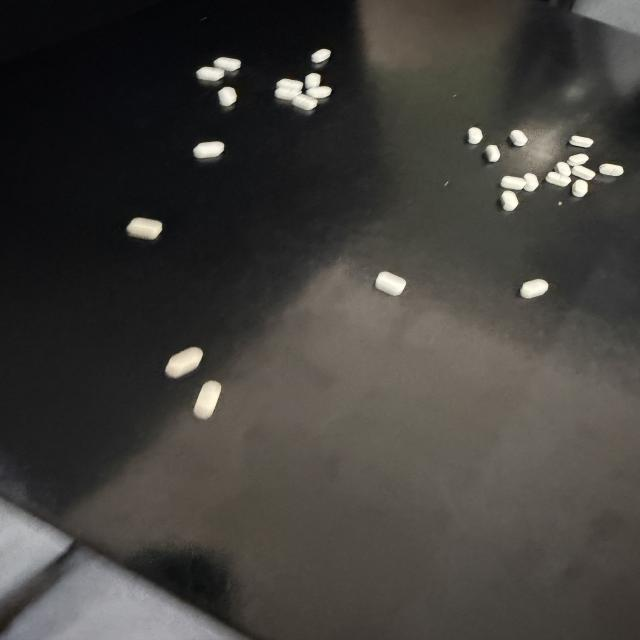pill: (165, 347, 202, 378), (194, 381, 221, 419), (126, 218, 162, 239), (375, 272, 406, 295), (520, 279, 548, 298), (194, 142, 224, 158), (292, 94, 317, 110), (196, 67, 224, 81), (214, 57, 241, 71), (545, 172, 571, 186), (218, 87, 237, 106), (274, 87, 301, 100), (501, 176, 526, 190), (501, 191, 518, 211), (277, 79, 303, 92), (306, 86, 331, 99), (572, 166, 595, 180), (599, 164, 623, 176), (510, 130, 528, 146), (311, 49, 331, 63), (572, 180, 588, 197), (485, 144, 500, 162), (524, 173, 539, 191), (570, 136, 593, 147), (567, 154, 588, 166), (468, 127, 482, 144), (305, 73, 320, 88), (555, 162, 571, 176)
